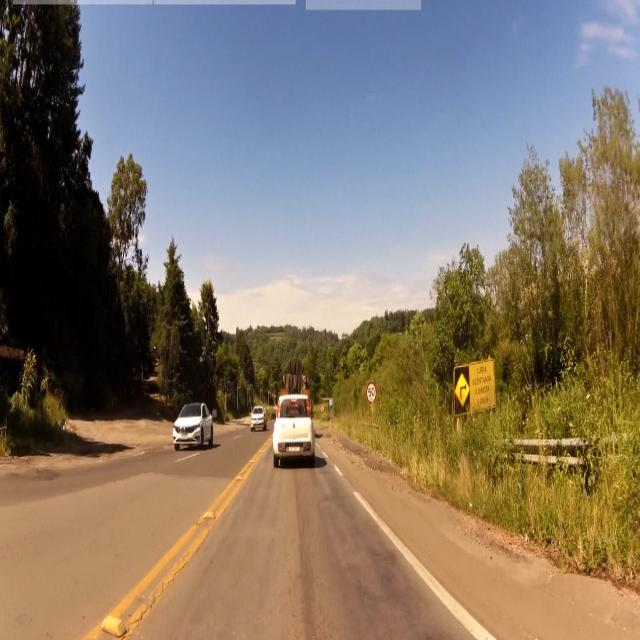A-1b: (454, 371, 472, 412)
